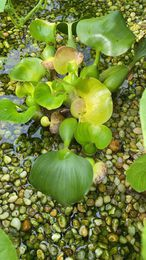water_hyacinth: (5, 6, 139, 204)
